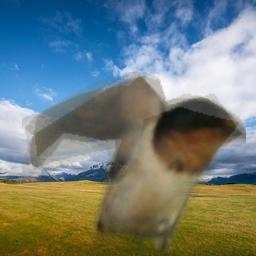Swallow: (22, 72, 246, 253)
